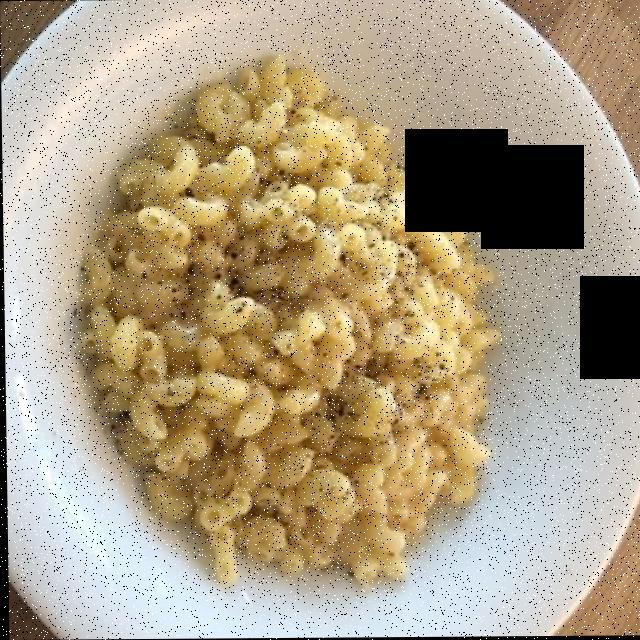pasta: (87, 65, 489, 578)
